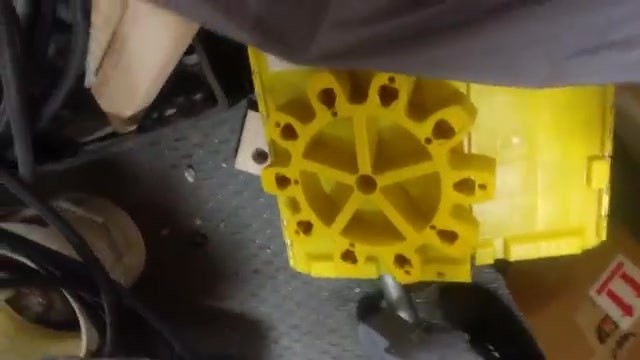gear: (245, 58, 503, 298)
